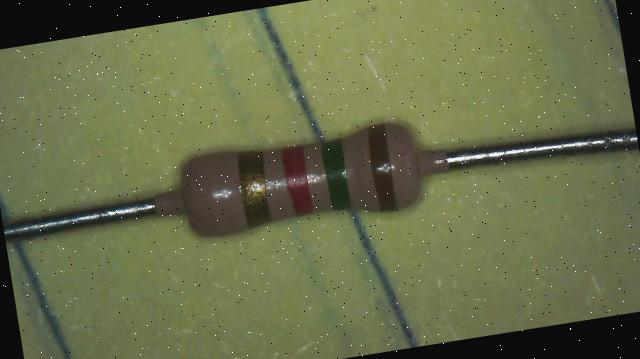brown: (364, 122, 399, 213)
gold: (235, 148, 273, 227)
green: (320, 136, 352, 211)
red: (280, 143, 313, 214)
resistor: (149, 89, 449, 261)
